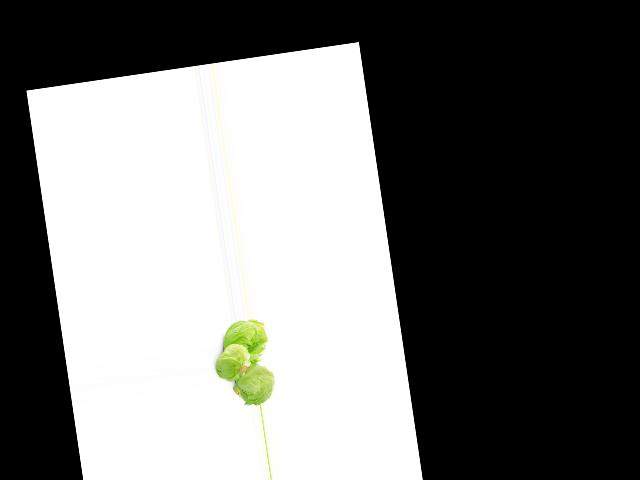lettuce: (223, 319, 267, 361)
